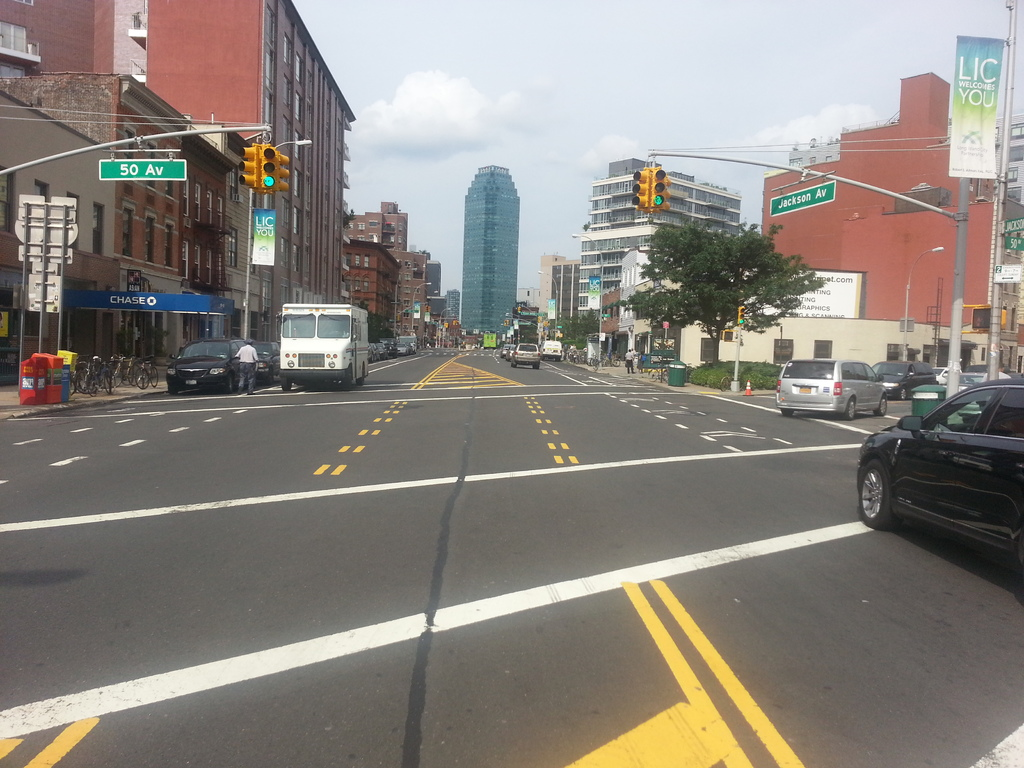Car: (852, 375, 1023, 576), (773, 359, 885, 423), (160, 335, 243, 387), (871, 359, 938, 398), (248, 337, 279, 387), (368, 335, 422, 362), (506, 339, 541, 371), (501, 344, 513, 356)
